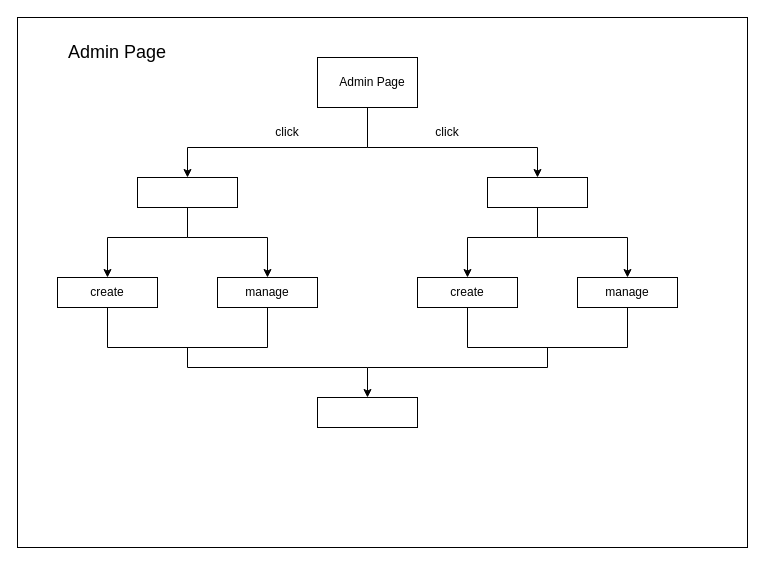
The diagram is 765 pixels wide and 565 high, and some of its shapes have lost their labels. The shapes that lost their labels are listed below. From the top down, each one's centre as x and y in pixels, then its label:
At [187,192]: "MF Type".
At [537,192]: "MF Schemes".
At [367,412]: "Logout".
